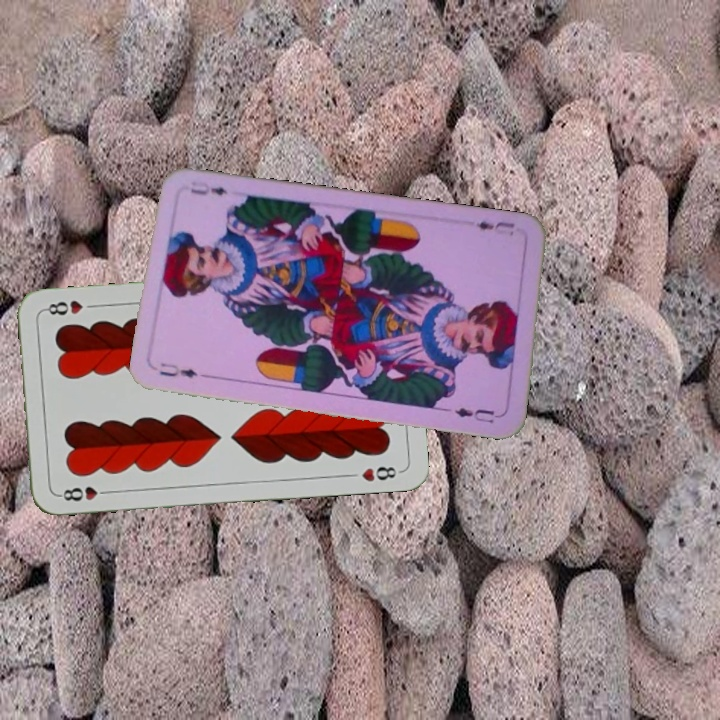EU: (155, 358, 213, 381), (472, 216, 518, 233)
H8: (55, 482, 114, 504)
